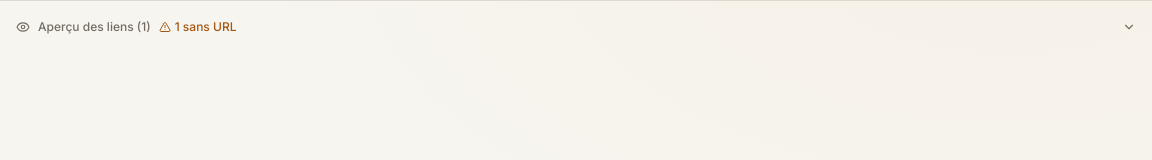
it: CitationsPreview — broken badges stay non-clickable › marks broken badges with aria-disabled and a tooltip
What coordinates should you click on to do the following:
click the button "Aperçu des liens (1) 1 sans URL"
I would click on:
 (90, 26)
Its box is [16,13,1136,41].
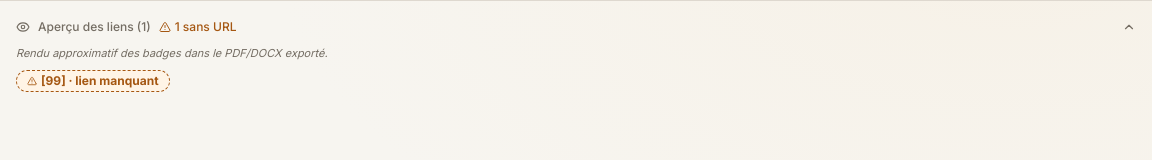
expect the element showing "[99] · lien manquant" is shown: met, box [16,70,170,92]
